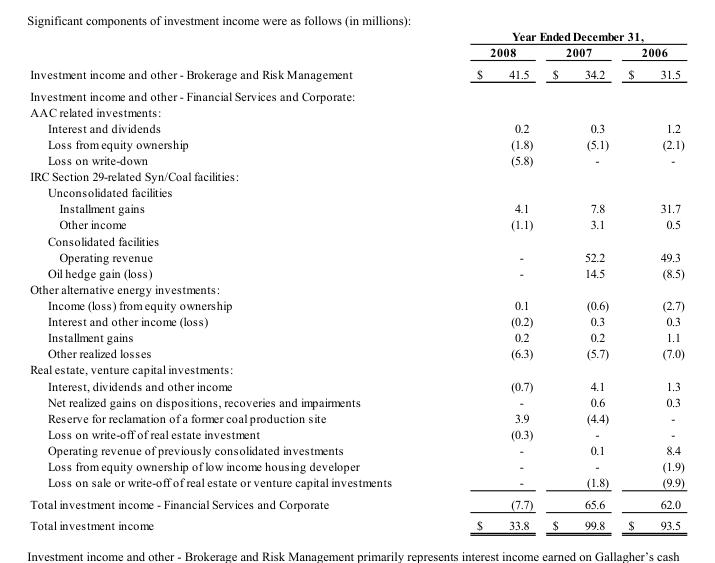table: (29, 29, 683, 531)
table column: (29, 29, 433, 531), (433, 29, 542, 531), (542, 29, 617, 531), (617, 29, 683, 531)
table column header: (29, 29, 683, 62)
table projected row header: (29, 84, 683, 103), (29, 167, 683, 184), (29, 103, 683, 119), (29, 184, 683, 200), (29, 232, 683, 248), (29, 280, 683, 296), (29, 361, 683, 377)
table row: (29, 62, 683, 84), (29, 492, 683, 514), (29, 43, 683, 62), (29, 84, 683, 103), (29, 474, 683, 492), (29, 167, 683, 184), (29, 312, 683, 329), (29, 457, 683, 474), (29, 514, 683, 531), (29, 103, 683, 119), (29, 119, 683, 135), (29, 135, 683, 151), (29, 151, 683, 167), (29, 184, 683, 200), (29, 200, 683, 216), (29, 216, 683, 232), (29, 232, 683, 248), (29, 248, 683, 264), (29, 264, 683, 280), (29, 280, 683, 296), (29, 296, 683, 312), (29, 329, 683, 345), (29, 345, 683, 361), (29, 361, 683, 377), (29, 377, 683, 393), (29, 393, 683, 409), (29, 409, 683, 425), (29, 425, 683, 441), (29, 441, 683, 457), (29, 29, 683, 43)
table spanning cell: (433, 29, 683, 43)
